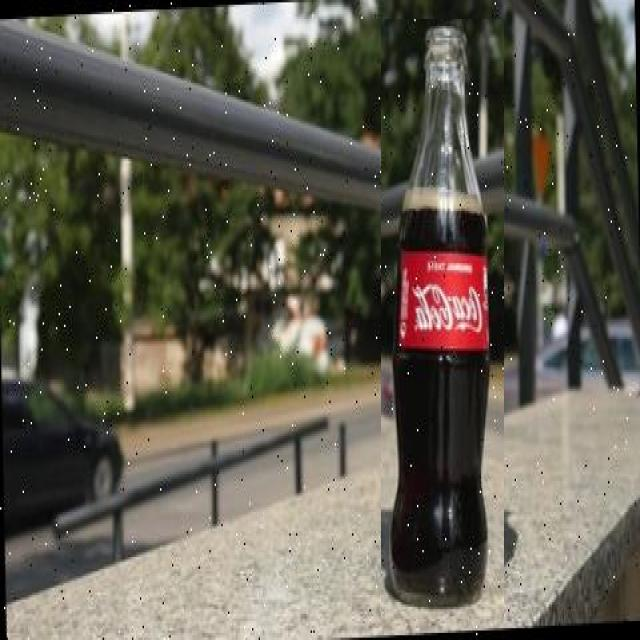coca-cola: (381, 19, 504, 619)
